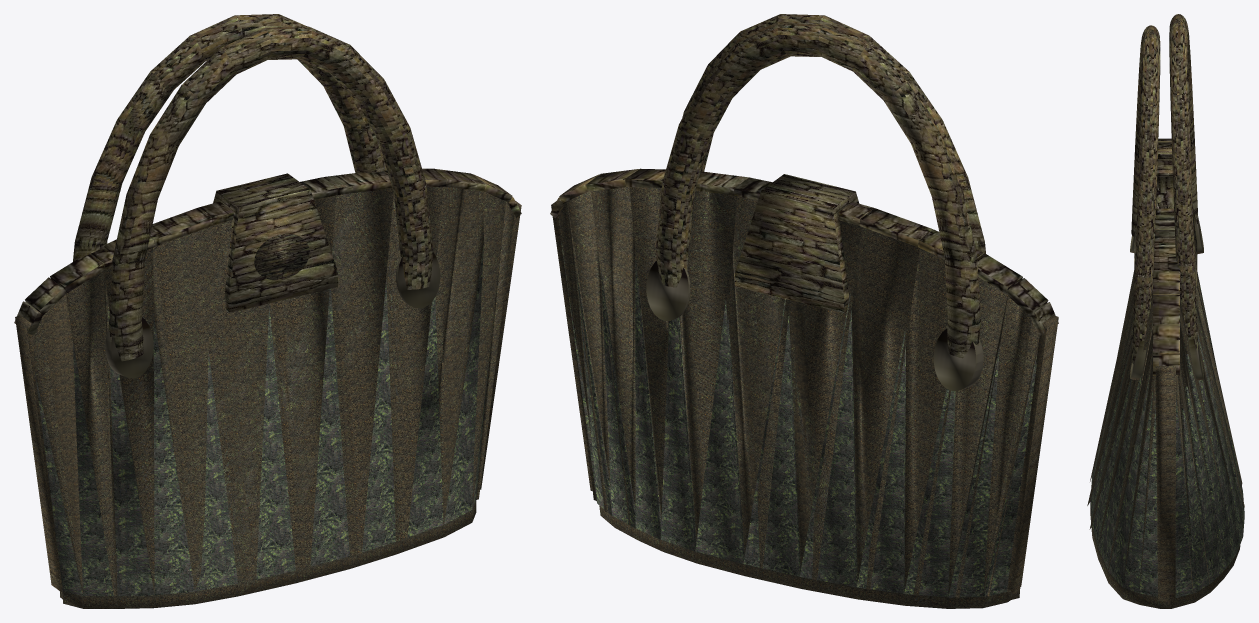
3 renders of one model, left to right at view 1: azimuth 30°, elevation 25°; view 2: azimuth 150°, elevation 25°; view 3: azimuth 270°, elevation 25°, orthographic. The views are drawn at different scales.
Parts seen in each view (by area): view 1: mesh5_mesh5-geometry, mesh12_mesh12-geometry, mesh9_mesh9-geometry, mesh15_mesh15-geometry, mesh7_mesh7-geometry, mesh3_mesh3-geometry, mesh16_mesh16-geometry, mesh4_mesh4-geometry, mesh13_mesh13-geometry, mesh2_mesh2-geometry, mesh14_mesh14-geometry; view 2: mesh5_mesh5-geometry, mesh9_mesh9-geometry, mesh15_mesh15-geometry, mesh7_mesh7-geometry, mesh12_mesh12-geometry, mesh4_mesh4-geometry, mesh10_mesh10-geometry, mesh11_mesh11-geometry, mesh3_mesh3-geometry, mesh2_mesh2-geometry; view 3: mesh5_mesh5-geometry, mesh12_mesh12-geometry, mesh9_mesh9-geometry, mesh2_mesh2-geometry, mesh7_mesh7-geometry, mesh15_mesh15-geometry, mesh11_mesh11-geometry, mesh14_mesh14-geometry, mesh10_mesh10-geometry.
Part boxes in pixels (bbox=[...]): mesh5_mesh5-geometry: bbox=[33, 186, 514, 608]; mesh12_mesh12-geometry: bbox=[108, 26, 433, 361]; mesh9_mesh9-geometry: bbox=[73, 14, 386, 261]; mesh15_mesh15-geometry: bbox=[213, 173, 337, 313]; mesh7_mesh7-geometry: bbox=[14, 168, 521, 335]; mesh3_mesh3-geometry: bbox=[21, 319, 62, 591]; mesh16_mesh16-geometry: bbox=[254, 233, 309, 280]; mesh4_mesh4-geometry: bbox=[15, 315, 56, 587]; mesh13_mesh13-geometry: bbox=[105, 317, 153, 378]; mesh2_mesh2-geometry: bbox=[480, 201, 521, 489]; mesh14_mesh14-geometry: bbox=[396, 252, 440, 308]; mesh5_mesh5-geometry: bbox=[558, 187, 1039, 608]; mesh9_mesh9-geometry: bbox=[655, 23, 980, 358]; mesh15_mesh15-geometry: bbox=[735, 174, 859, 312]; mesh7_mesh7-geometry: bbox=[550, 168, 1058, 336]; mesh12_mesh12-geometry: bbox=[682, 14, 985, 253]; mesh4_mesh4-geometry: bbox=[1007, 319, 1052, 593]; mesh10_mesh10-geometry: bbox=[933, 328, 983, 391]; mesh11_mesh11-geometry: bbox=[646, 261, 690, 320]; mesh3_mesh3-geometry: bbox=[1016, 315, 1058, 589]; mesh2_mesh2-geometry: bbox=[551, 201, 592, 490]; mesh5_mesh5-geometry: bbox=[1087, 270, 1244, 608]; mesh12_mesh12-geometry: bbox=[1131, 25, 1160, 364]; mesh9_mesh9-geometry: bbox=[1169, 14, 1198, 350]; mesh2_mesh2-geometry: bbox=[1155, 366, 1175, 600]; mesh7_mesh7-geometry: bbox=[1153, 138, 1179, 375]; mesh15_mesh15-geometry: bbox=[1134, 177, 1197, 304]; mesh11_mesh11-geometry: bbox=[1188, 336, 1203, 380]; mesh14_mesh14-geometry: bbox=[1130, 340, 1146, 379]; mesh10_mesh10-geometry: bbox=[1192, 207, 1203, 254].
Size of the model in its own units: 0.6808 by 0.7024 by 0.2076.
